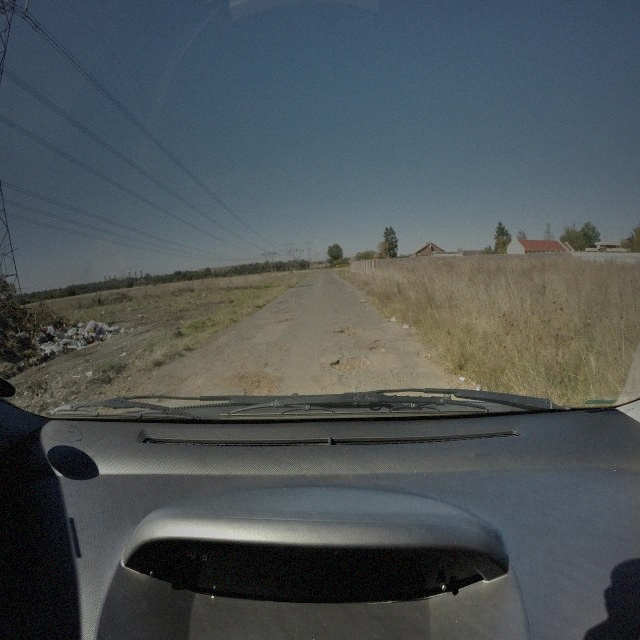pothole: (221, 372, 288, 392), (331, 354, 372, 373), (337, 324, 364, 338), (369, 346, 385, 354), (374, 338, 388, 346)
